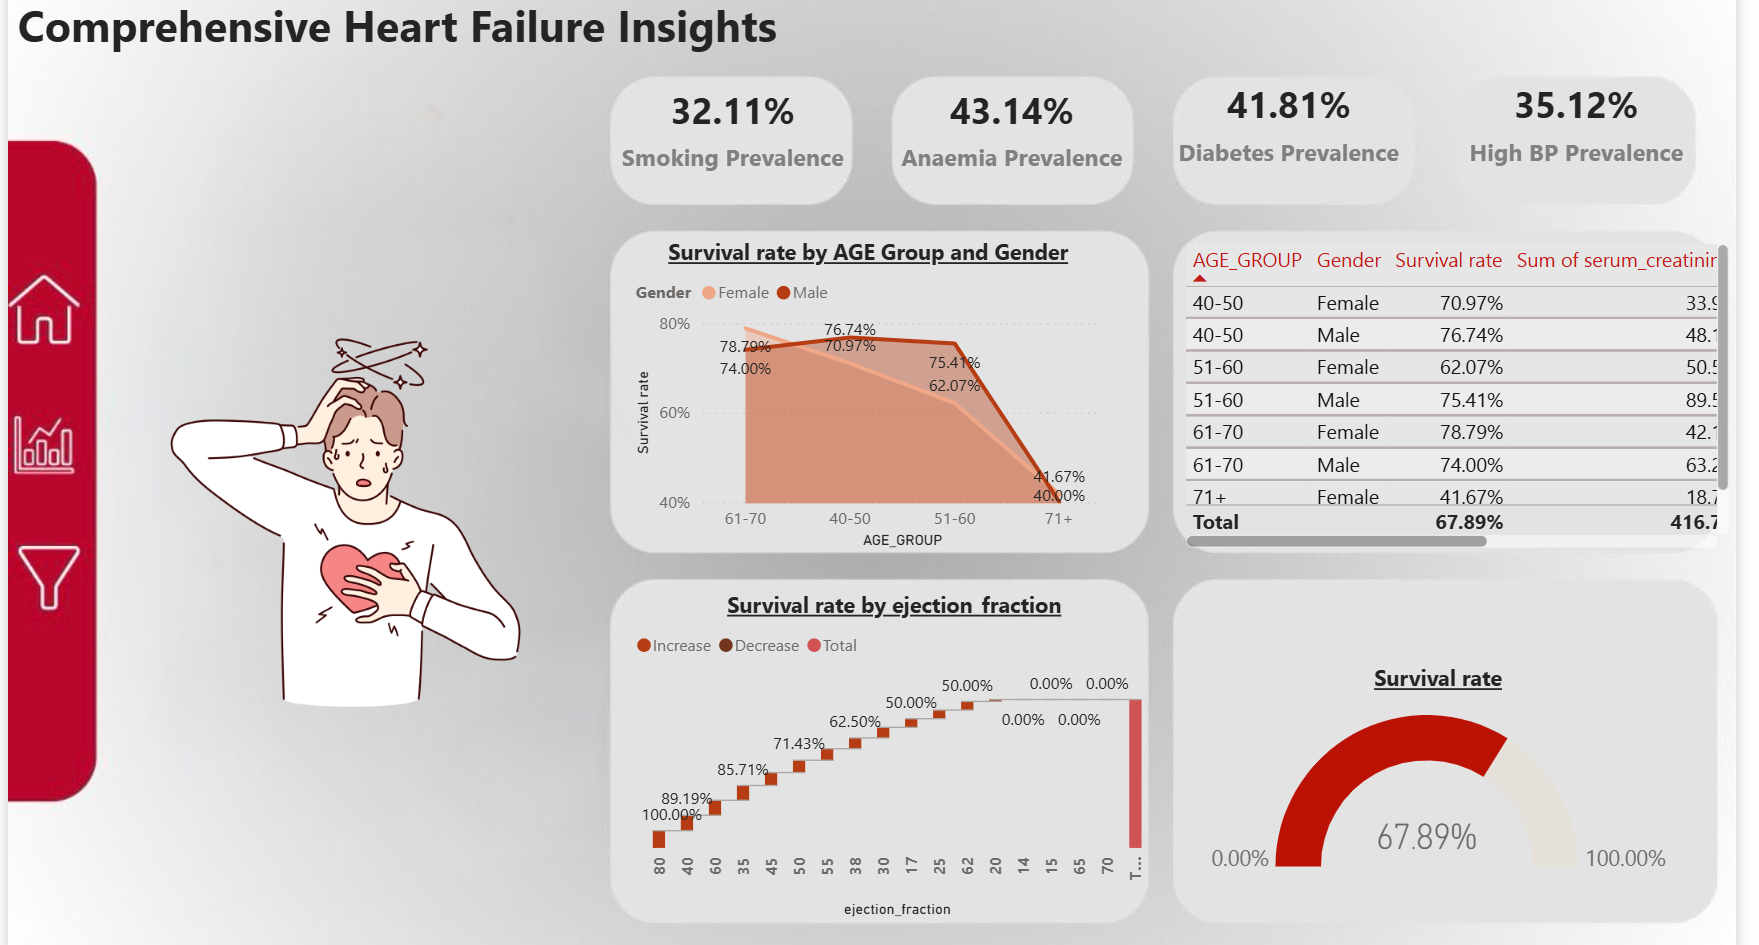

What the dashboard file says about the page in this screenshot:
{"tool":"powerbi","page":{"name":"Insights","canvas":[1280,720],"ordinal":2},"visuals":[{"type":"tableEx","fields":{"Values":["heart_Disease_clinical_records_.AGE_GROUP","heart_Disease_clinical_records_.Gender","heart_Disease_clinical_records_.Survival_rate","Sum(heart_Disease_clinical_records_.serum_creatinine)","Sum(heart_Disease_clinical_records_.platelets)","Sum(heart_Disease_clinical_records_.ejection_fraction)"]},"box":[866.8,188.4,413.2,234.9],"z":0},{"type":"waterfallChart","fields":{"Category":["heart_Disease_clinical_records_.ejection_fraction","heart_Disease_clinical_records_.serum_creatinine","heart_Disease_clinical_records_.platelets"],"Y":["heart_Disease_clinical_records_.Survival_rate"]},"box":[459.7,449.6,392.9,247.1],"z":1000},{"type":"gauge","title":"Survival rate","fields":{"Y":["heart_Disease_clinical_records_.Survival_rate"]},"box":[881,504.3,356.5,172.2],"z":2000},{"type":"areaChart","title":"Survival rate by AGE Group and Gender","fields":{"Category":["heart_Disease_clinical_records_.AGE_GROUP"],"Y":["heart_Disease_clinical_records_.Survival_rate"],"Series":["heart_Disease_clinical_records_.Gender"]},"box":[459.7,188.4,354.4,234.9],"z":3000},{"type":"card","fields":{"Values":["heart_Disease_clinical_records_.Smoking Prevalence"]},"box":[433.4,40.5,206.6,133.7],"z":4000},{"type":"card","fields":{"Values":["heart_Disease_clinical_records_.Anaemia Prevalence"]},"box":[640,32.4,206.6,149.9],"z":5000},{"type":"card","fields":{"Values":["heart_Disease_clinical_records_.Diabetes Prevalence"]},"box":[852.7,32.4,192.4,141.8],"z":6000},{"type":"card","fields":{"Values":["heart_Disease_clinical_records_.High BP Prevalence"]},"box":[1073.4,32.4,176.2,141.8],"z":7000},{"type":"image","box":[66.8,70.9,366.6,625.8],"z":8000},{"type":"pageNavigator","box":[0,180.3,68.9,346.3],"z":9000},{"type":"textbox","box":[2,4.1,638,60.8],"z":10000}]}

Visuals, with their boxes on the page's 1280x720 design canvas (x1, y1, x2, y2). These are canvas units, not pixel positions in the 1759x945 screenshot, which may show the page scaled, cropped or inside an application window:
tableEx - heart_Disease_clinical_records_.AGE_GROUP x heart_Disease_clinical_records_.Gender: 867/188/1280/423
waterfallChart - heart_Disease_clinical_records_.ejection_fraction x heart_Disease_clinical_records_.serum_creatinine: 460/450/853/697
"Survival rate" gauge: 881/504/1238/676
"Survival rate by AGE Group and Gender" areaChart: 460/188/814/423
card - heart_Disease_clinical_records_.Smoking Prevalence: 433/40/640/174
card - heart_Disease_clinical_records_.Anaemia Prevalence: 640/32/847/182
card - heart_Disease_clinical_records_.Diabetes Prevalence: 853/32/1045/174
card - heart_Disease_clinical_records_.High BP Prevalence: 1073/32/1250/174
image: 67/71/433/697
pageNavigator: 0/180/69/527
textbox: 2/4/640/65
